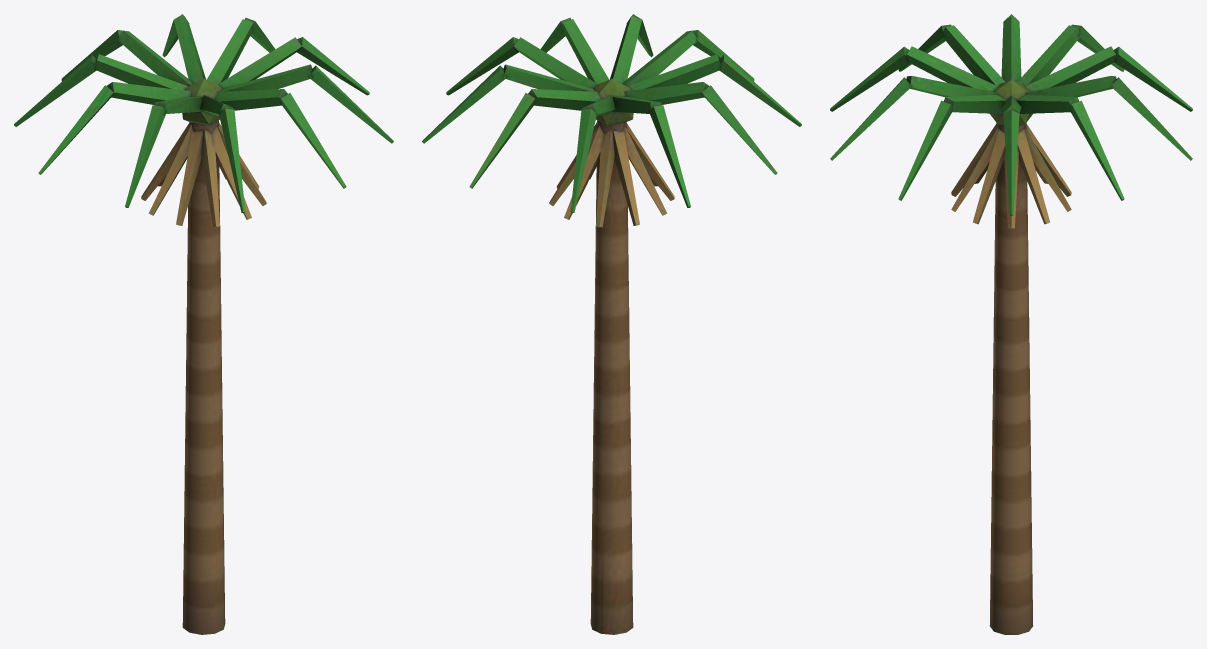
The model's file is palmera.glb.
3 renders of one model, left to right at view 1: azimuth 30°, elevation 25°; view 2: azimuth 150°, elevation 25°; view 3: azimuth 270°, elevation 25°, orthographic.
Parts seen in each view (by area): view 1: palmera; view 2: palmera; view 3: palmera.
Boxes of the visible parts, x1,y1,x2,y2 form: palmera: (14,14,393,634); palmera: (422,14,801,634); palmera: (830,14,1192,634).
Bounding box in the file's own units: 5.64 × 9.21 × 5.36.
Materials: 1 (1 with a texture image).
